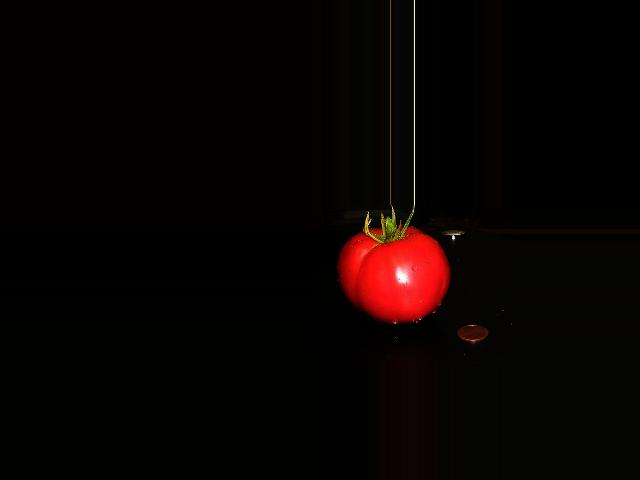tomato: (335, 226, 449, 324)
